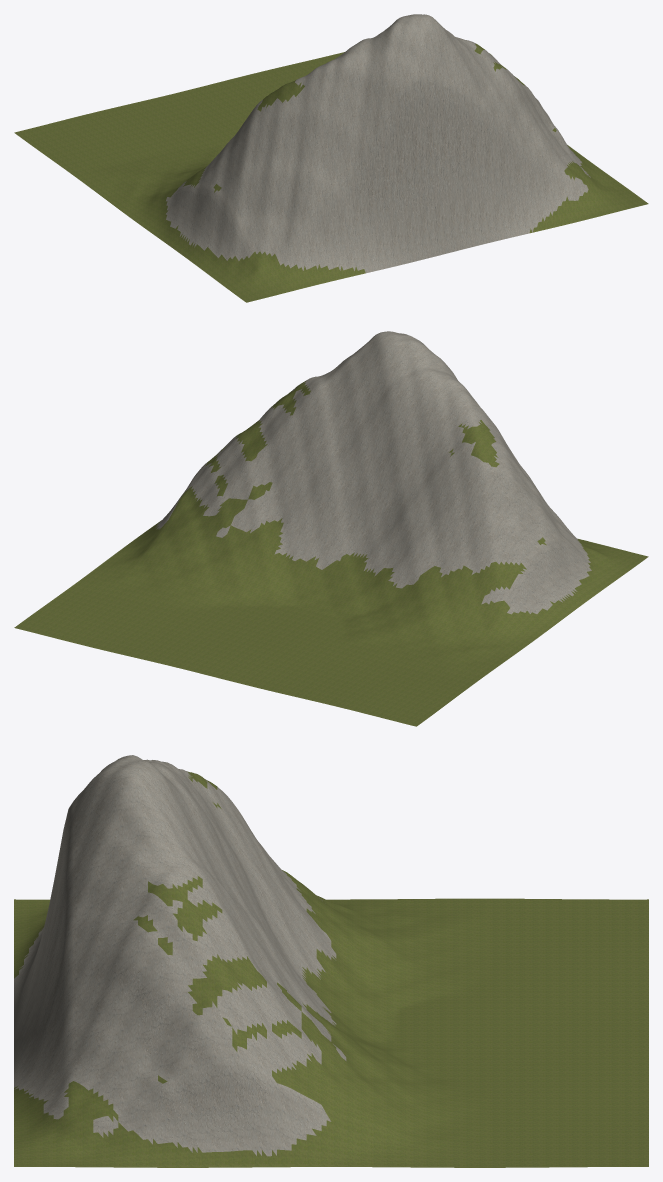
The model's file is terrain_ridge.glb.
3 views of the same model, one above another, from view 1: azimuth 30°, elevation 25°; view 2: azimuth 150°, elevation 25°; view 3: azimuth 270°, elevation 25° (orthographic). The views are drawn at different scales.
Parts seen in each view (by area): view 1: terrain_ridge; view 2: terrain_ridge; view 3: terrain_ridge.
Part boxes in pixels (<box>): terrain_ridge: <box>14,14,648,302</box>; terrain_ridge: <box>14,331,648,726</box>; terrain_ridge: <box>14,755,648,1167</box>.
Bounding box in the file's own units: 192 × 92.22 × 192.
